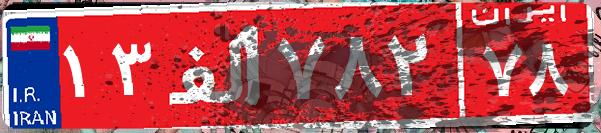1: (57, 26, 110, 107)
2: (385, 28, 445, 110)
3: (110, 28, 158, 105)
7: (273, 28, 330, 110), (475, 38, 525, 113)
8: (330, 28, 385, 110), (525, 38, 570, 115)
الف: (158, 15, 273, 115)
